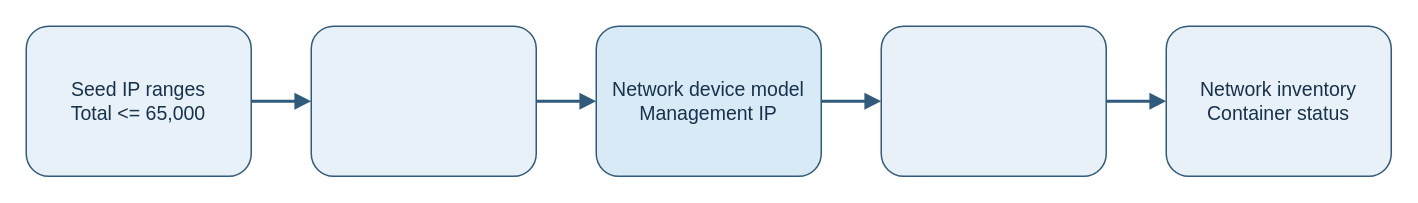
This 1418x203 diagram has some shape labels left out. The centre of each missing label's shape, as x and y in pixels:
"CDP neighbors Recursive expansion" belongs at pixel 993 100.
"SNMP probe v1 / v2 / v3" belongs at pixel 423 100.
